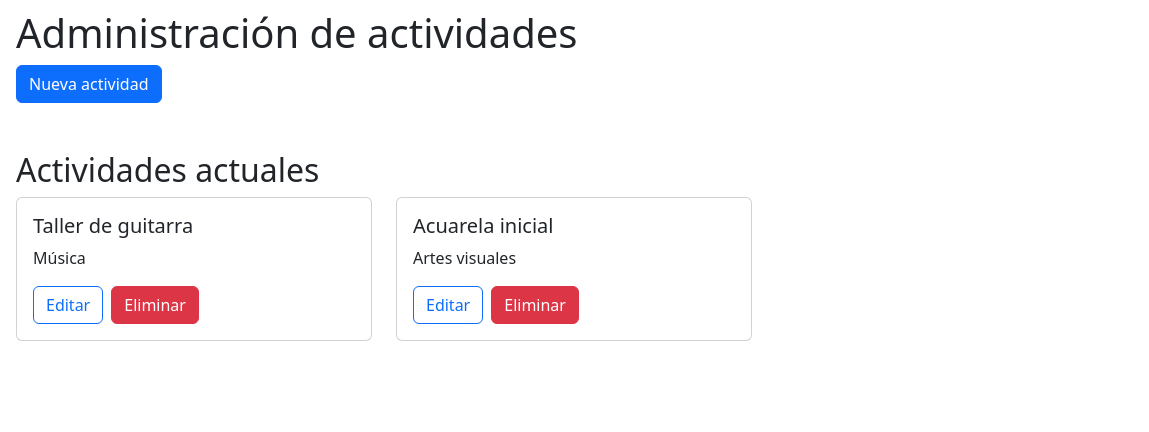
Test: AdminActividades › informa el error cuando la API rechaza la eliminación
This screenshot has width=1149, height=432.
Click the button "Eliminar" below "Música" at (155, 305), box [111, 286, 199, 324]
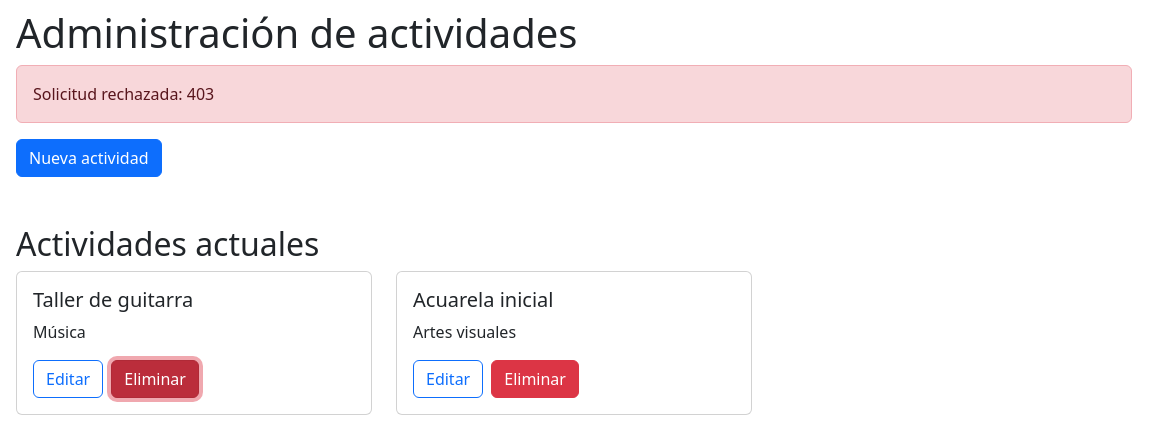
Expected: the heading "Taller de guitarra" is shown, [33, 286, 193, 313]
Result: the text "Solicitud rechazada: 403" is shown at [16, 65, 1132, 123]
